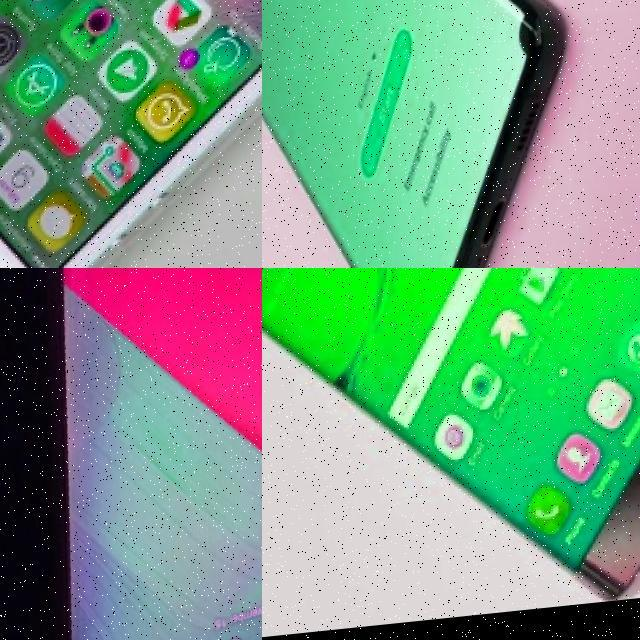dead pixel: (490, 0, 573, 95)
